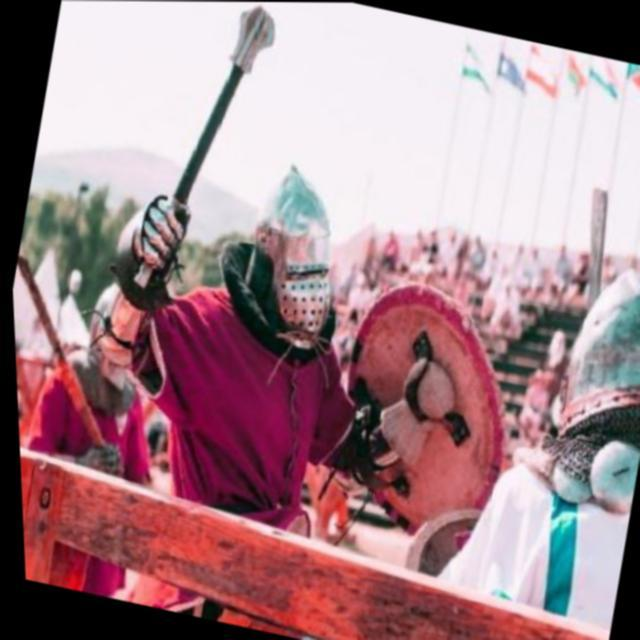weapon: (66, 1, 297, 392), (9, 252, 150, 473), (564, 184, 626, 316)
